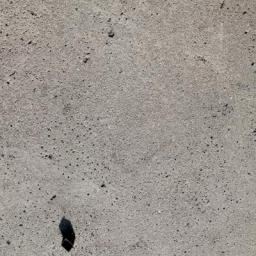FOD: (56, 215, 80, 254)
